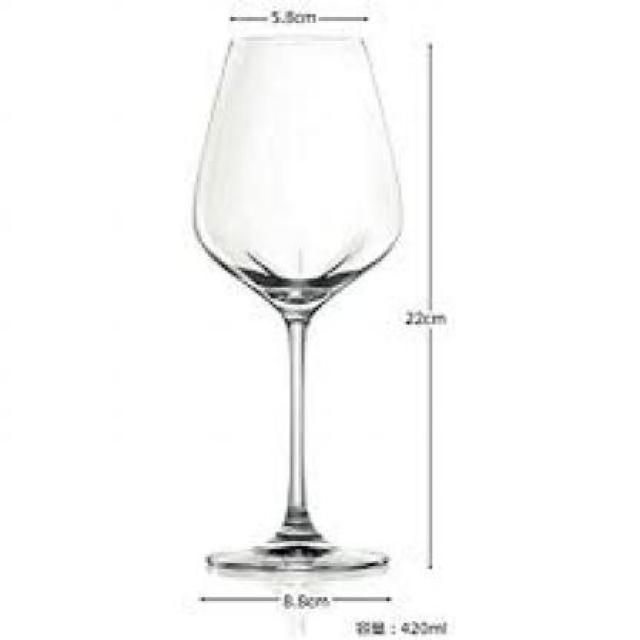kaca: (190, 34, 402, 566)
